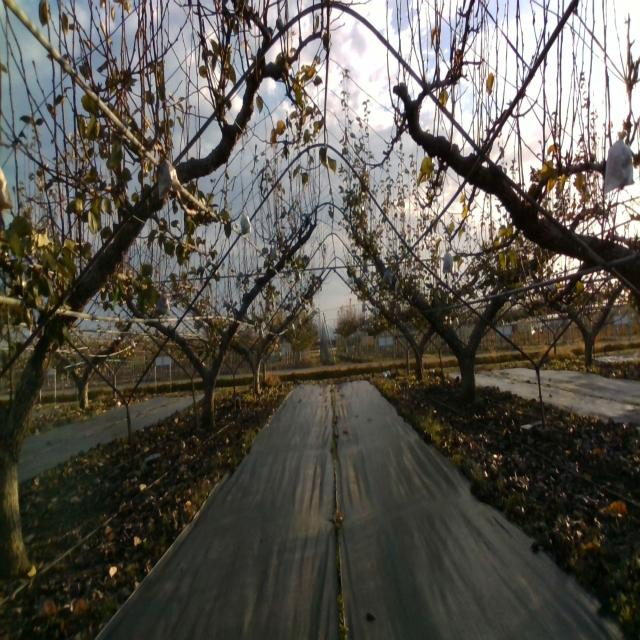pearbags: (604, 133, 634, 194), (157, 158, 182, 200), (239, 210, 252, 236), (442, 248, 453, 275)
